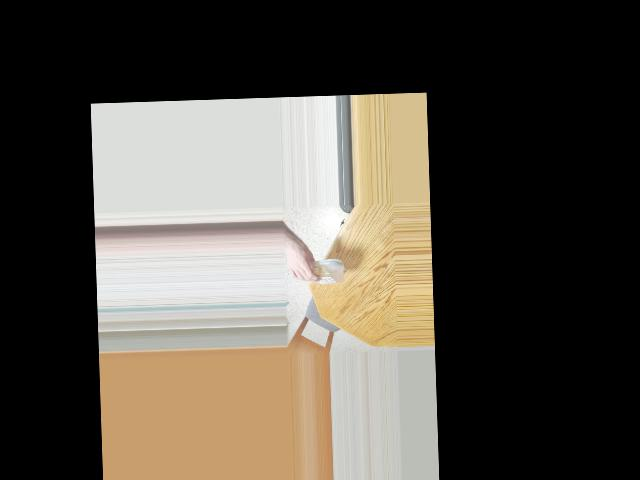cheese: (301, 249, 349, 291)
